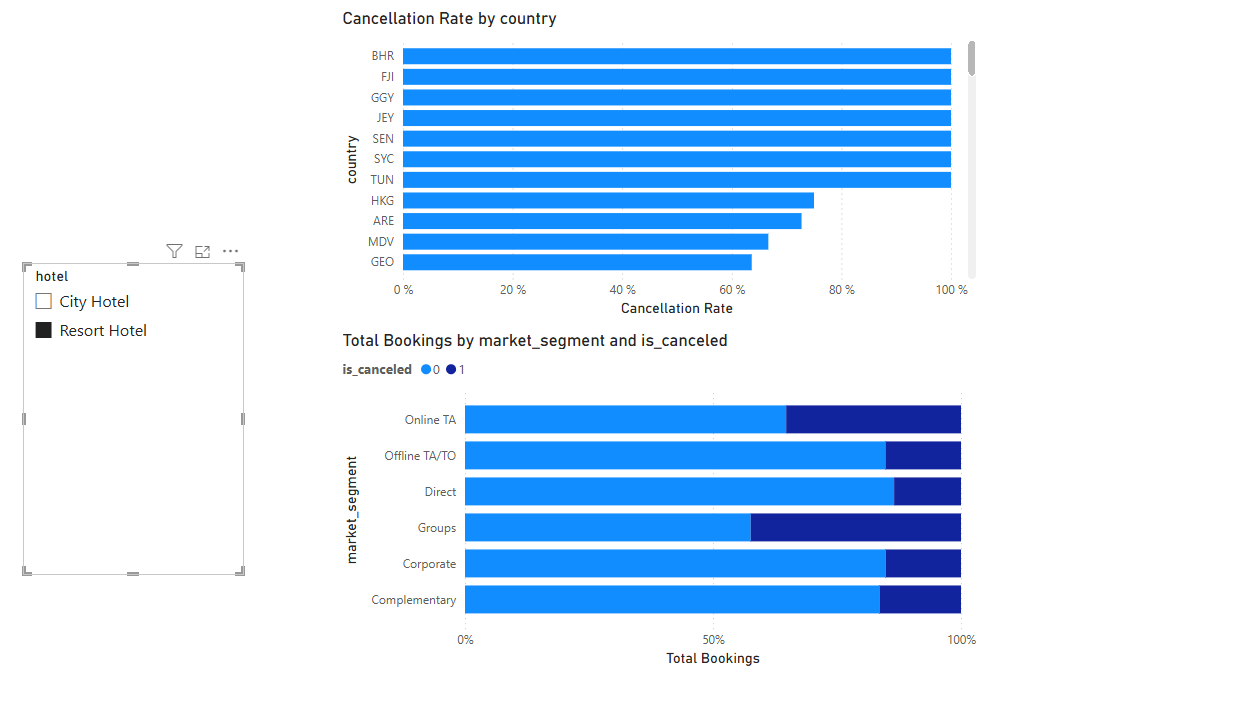

The page's visual inventory and layout, read from the dashboard file:
{"tool":"powerbi","page":{"name":"Page 3","canvas":[1280,720],"ordinal":2},"visuals":[{"type":"clusteredBarChart","fields":{"Category":["hotel_booking_clean33.country"],"Y":["Measures 2.Cancellation Rate"]},"box":[339.5,10.1,642.8,312.4],"z":0},{"type":"hundredPercentStackedBarChart","fields":{"Y":["hotel_booking_clean33.Total Bookings"],"Category":["hotel_booking_clean33.market_segment"],"Series":["hotel_booking_clean33.is_canceled"]},"box":[339.5,331.6,642.8,341.7],"z":1},{"type":"slicer","fields":{"Values":["hotel_booking_clean33.hotel"]},"box":[23.7,265,221,312.4],"z":2}]}

Visuals, with their boxes on the page's 1280x720 design canvas (x1, y1, x2, y2). These are canvas units, not pixel positions in the 1254x710 screenshot, which may show the page scaled, cropped or inside an application window:
clusteredBarChart - hotel_booking_clean33.country x Measures 2.Cancellation Rate: [340,10,982,322]
hundredPercentStackedBarChart - hotel_booking_clean33.Total Bookings x hotel_booking_clean33.market_segment: [340,332,982,673]
slicer - hotel_booking_clean33.hotel: [24,265,245,577]
